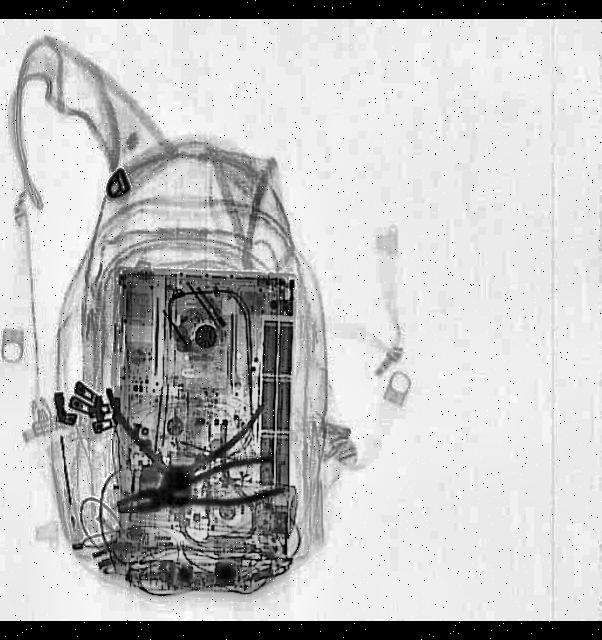Pliers: (100, 387, 266, 498), (114, 449, 286, 531)
